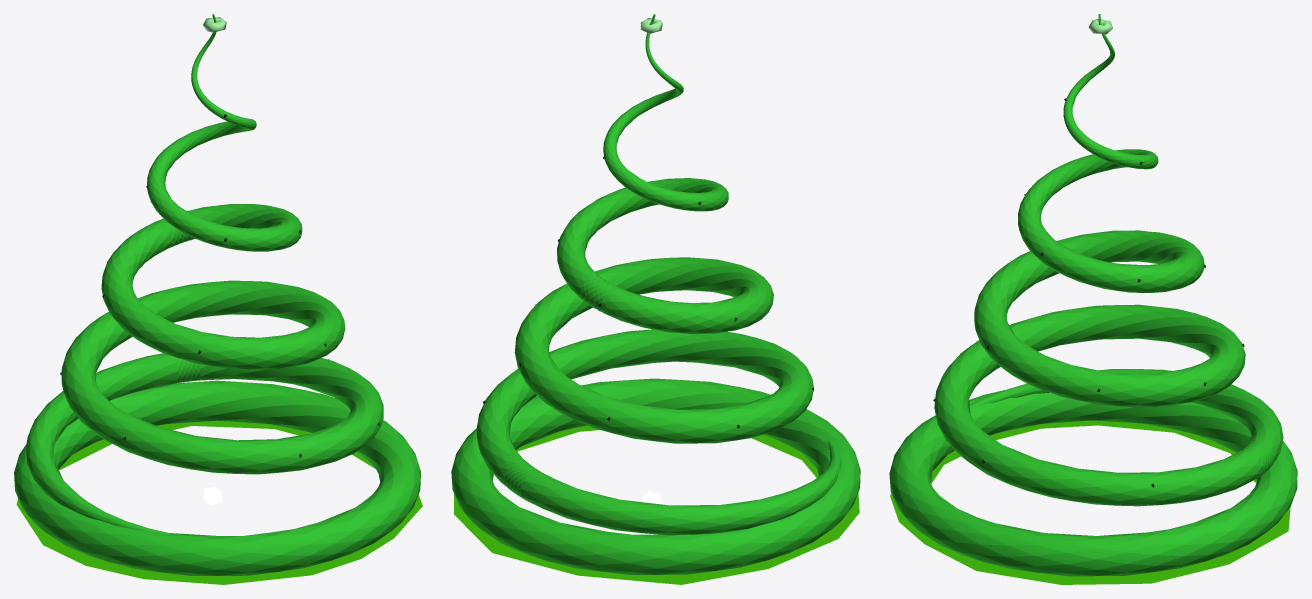
Rendered from jokastree2.gltf.
3 views of the same model, side by side, from view 1: azimuth 30°, elevation 25°; view 2: azimuth 150°, elevation 25°; view 3: azimuth 270°, elevation 25° (orthographic).
Parts seen in each view (by area): view 1: jolka s igruskami.001, Plane; view 2: jolka s igruskami.001, Plane; view 3: jolka s igruskami.001, Plane.
Boxes of the visible parts, x1,y1,x2,y2 form: jolka s igruskami.001: (14,14,420,575); Plane: (16,420,422,584); jolka s igruskami.001: (451,14,860,574); Plane: (454,425,859,584); jolka s igruskami.001: (889,14,1297,576); Plane: (890,420,1290,584).
Bounding box in the file's own units: 62.75 × 82.84 × 62.48.
